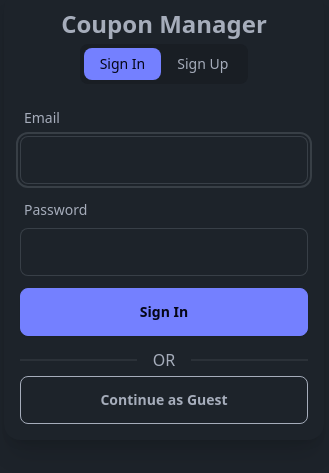
Test: LoginForm › Form Validation - Sign Up Mode › should show password requirements hint on blur in sign up mode
Click the link "Sign Up".
click(203, 64)  # box [177,54,228,73]
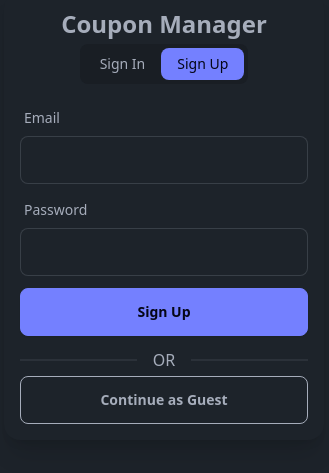
Type "123" into the password field labelled "Password".
click(164, 252); type("123")  # box [20,228,308,276]
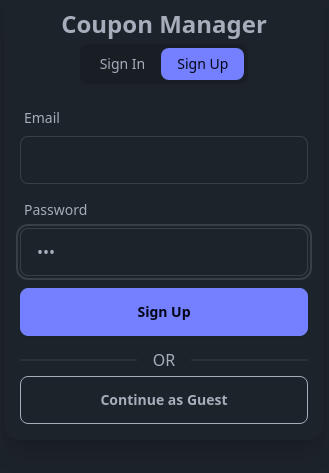
Press Tab
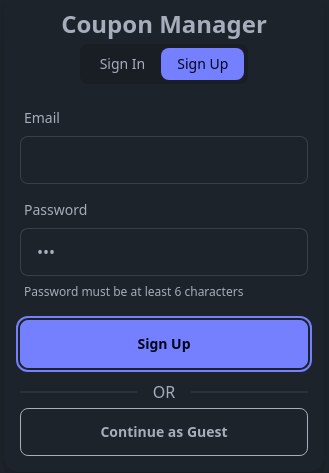
Expected: the text "Password must be at least 6 characters" is shown, [24,284,243,300]
